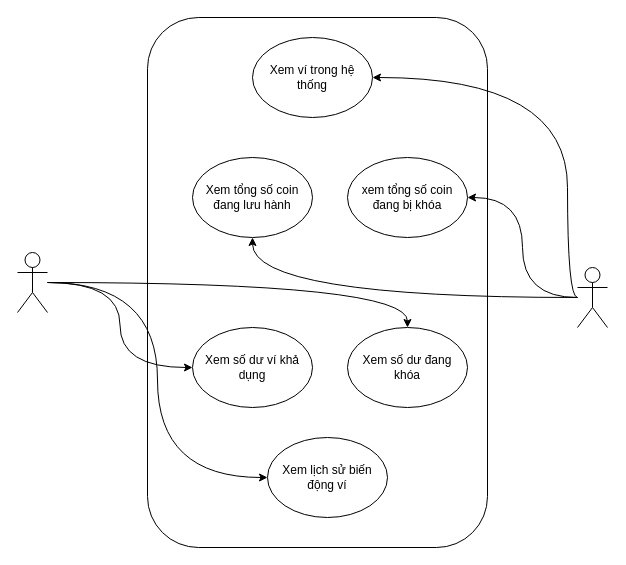
The diagram is 626 pixels wide and 565 high, and some of its shapes have lost their labels. The shapes that lost their labels are listed below. From the top down, each one's centre as x and y in pixels, then its label:
At (x=32, y=282): "user".
At (x=592, y=297): "admin".
